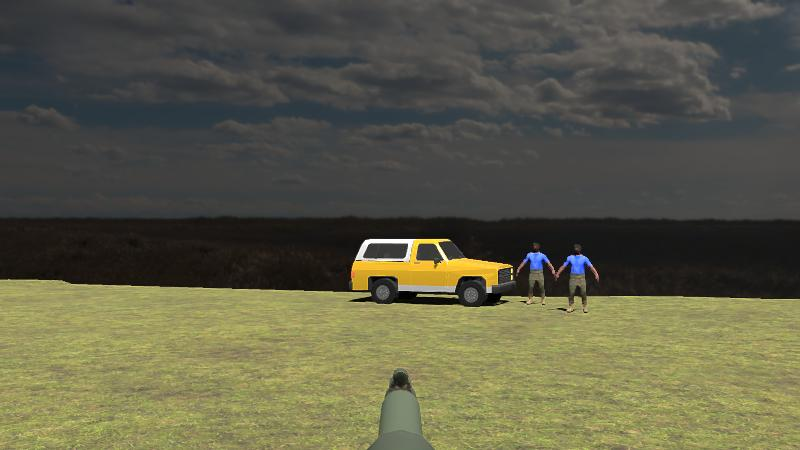Human: (556, 242, 599, 313), (516, 240, 556, 306)
car: (351, 236, 516, 307)
